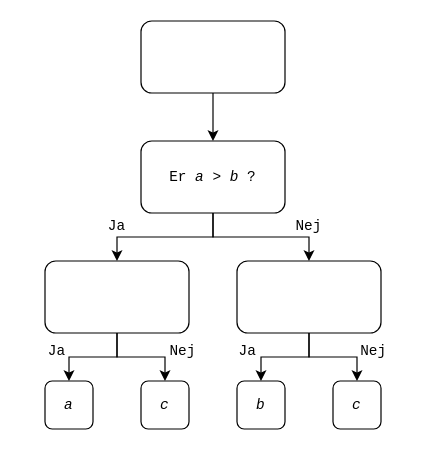
The diagram is 430 pixels wide and 450 high, and some of its shapes have lost their labels. Each missing label, with the centre of its shape:
Er a , b , eller c størst?: the point at 212,56
Er a > c ?: the point at 116,296
Er b > c ?: the point at 308,296
